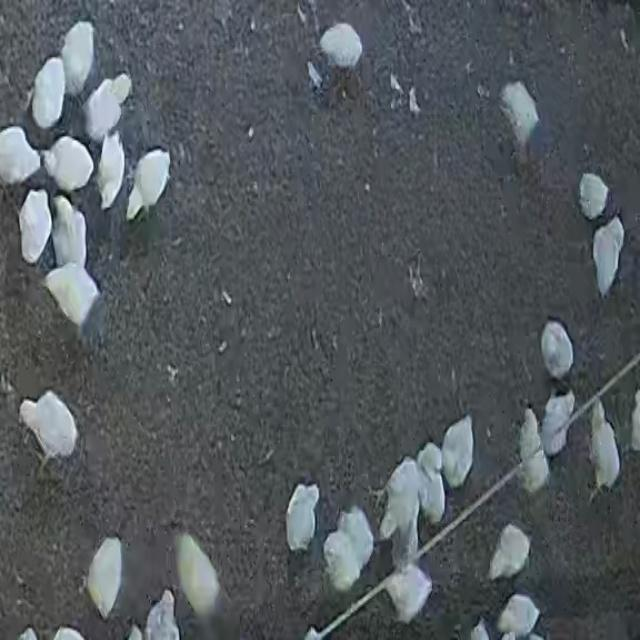chicken: (18, 387, 83, 480), (490, 73, 547, 166), (41, 261, 106, 340), (121, 146, 176, 223), (176, 532, 222, 619), (588, 398, 623, 506), (316, 17, 368, 79), (382, 564, 434, 626), (42, 134, 95, 194), (86, 537, 124, 620), (84, 78, 128, 144), (17, 188, 54, 265), (49, 196, 87, 268), (60, 21, 96, 93), (31, 57, 67, 129), (592, 216, 624, 297), (488, 522, 531, 582), (0, 126, 42, 186), (285, 482, 320, 552), (95, 132, 126, 210), (441, 416, 475, 487), (539, 391, 575, 458), (540, 318, 574, 382), (573, 169, 611, 224)
